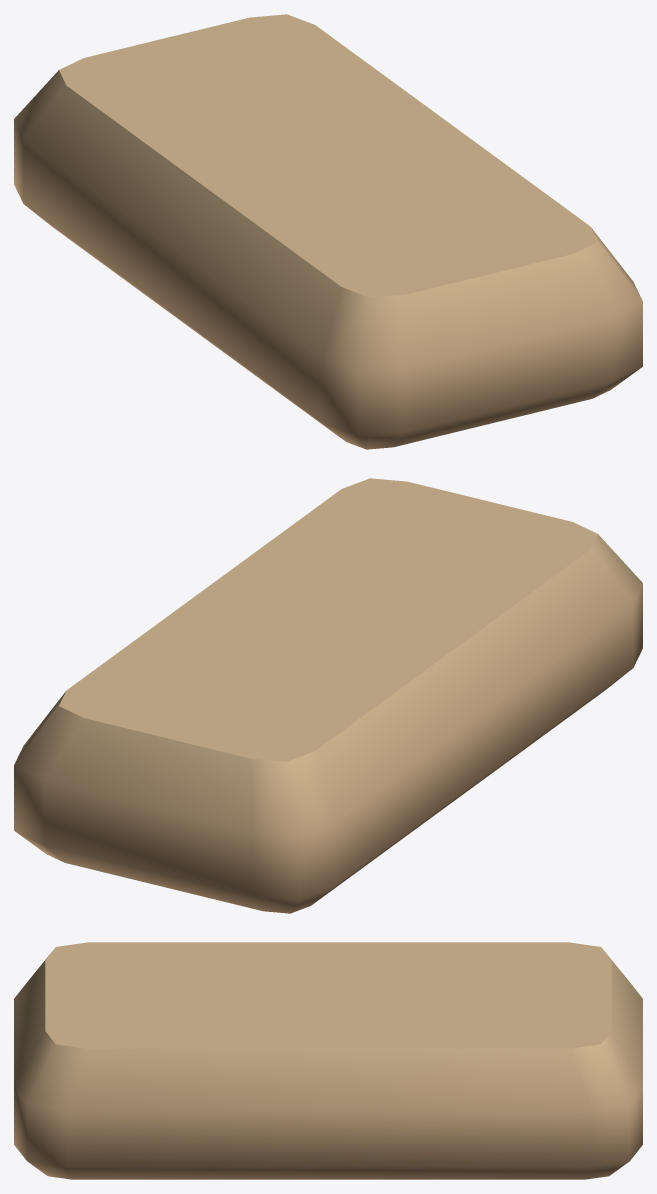
Rendered from pillow-wide-square-laying.glb.
3 views of the same model, one above another, from view 1: azimuth 30°, elevation 25°; view 2: azimuth 150°, elevation 25°; view 3: azimuth 270°, elevation 25° (orthographic). The views are drawn at different scales.
Parts seen in each view (by area): view 1: pillow-wide-square-laying; view 2: pillow-wide-square-laying; view 3: pillow-wide-square-laying.
Boxes of the visible parts, x1,y1,x2,y2 form: pillow-wide-square-laying: [14, 14, 642, 449]; pillow-wide-square-laying: [14, 478, 642, 913]; pillow-wide-square-laying: [14, 942, 642, 1179].
Size of the model in its own units: 0.3 by 0.1352 by 0.6.
